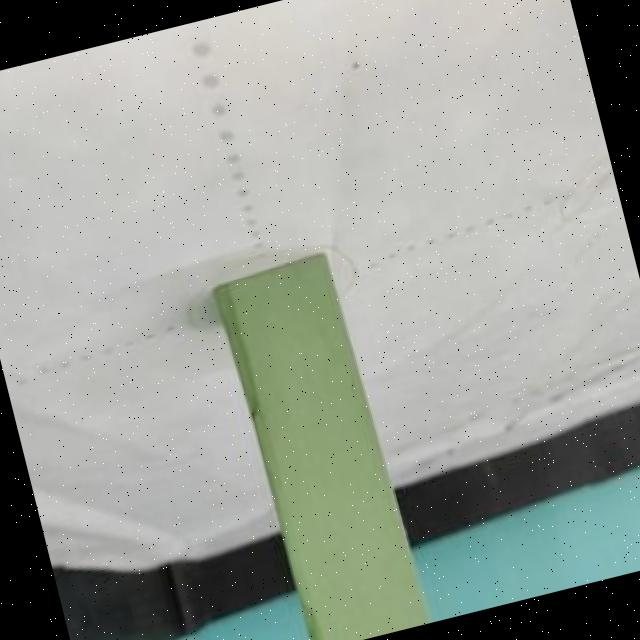greenbox: (208, 244, 435, 640)
